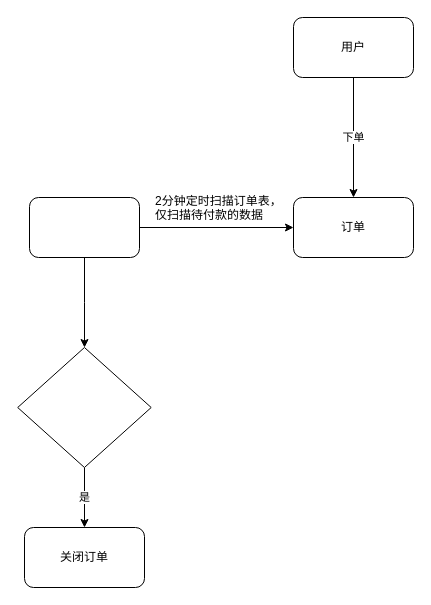
This 431x605 diagram has some shape labels left out. The centre of each missing label's shape, as x and y in pixels:
判断是否超时: (84,407)
定时器: (84,227)
